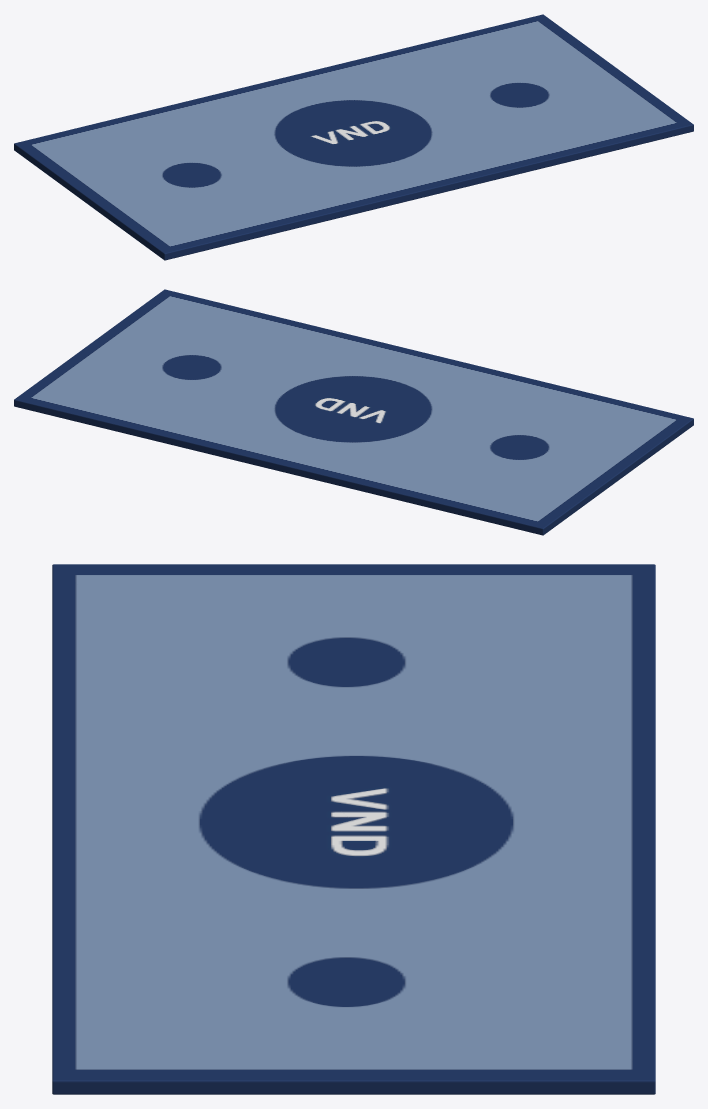
The model's file is cash.fbx.
3 views of the same model, one above another, from view 1: azimuth 30°, elevation 25°; view 2: azimuth 150°, elevation 25°; view 3: azimuth 270°, elevation 25° (orthographic). The views are drawn at different scales.
Visible parts, largest first — view 1: Cash; view 2: Cash; view 3: Cash.
Part boxes in pixels (left/top/right/bottom): Cash: left=14, top=14, right=693, bottom=260; Cash: left=14, top=289, right=693, bottom=535; Cash: left=52, top=564, right=655, bottom=1094.
Size of the model in its own units: 23.59 by 0.3075 by 11.64.
1 material, 1 textured.
